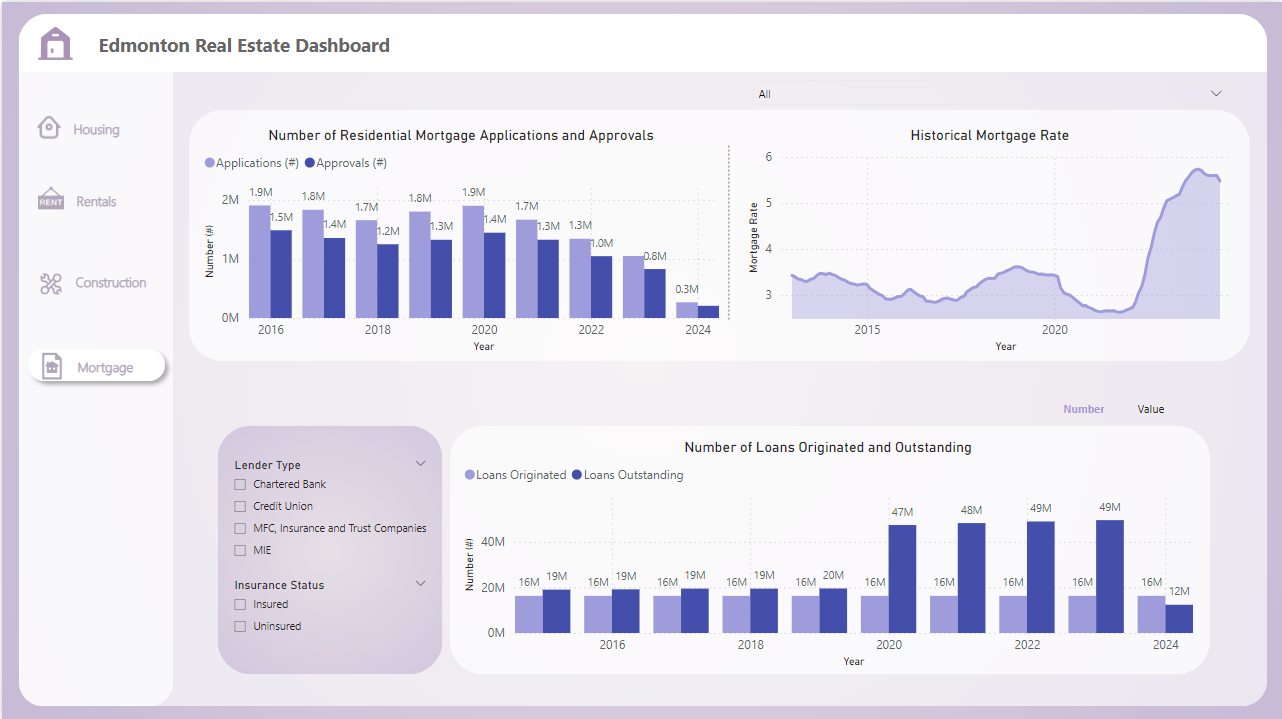

This screenshot's page, from the dashboard's own definition file:
{"tool":"powerbi","page":{"name":"Mortgage Overview","canvas":[1280,720],"ordinal":3},"visuals":[{"type":"shape","box":[16.7,338.3,155,49.2],"z":0},{"type":"image","box":[0,16.4,108.2,49.1],"z":1000},{"type":"image","box":[28.2,95.5,38.2,60],"z":2000},{"type":"image","box":[32.7,265.5,32.7,33.6],"z":3000},{"type":"image","box":[30.9,169.1,36.4,53.6],"z":4000},{"type":"image","box":[27.3,323.6,45.5,80],"z":5000},{"type":"textbox","box":[67.3,112.7,89.1,32.7],"z":6000},{"type":"textbox","box":[70,185.5,90,33.6],"z":7000},{"type":"textbox","box":[69.1,266.4,102.7,32.7],"z":8000},{"type":"textbox","box":[70.9,350.9,90,33.6],"z":9000},{"type":"actionButton","box":[27.3,105.5,129.1,40],"z":10000},{"type":"actionButton","box":[27.3,179.1,129.1,40],"z":11000},{"type":"actionButton","box":[27.3,259.1,129.1,40],"z":12000},{"type":"actionButton","box":[27.3,343.6,129.1,40],"z":13000},{"type":"textbox","box":[91.8,24.5,356.4,40.9],"z":14000},{"type":"clusteredColumnChart","title":"Number of Residential Mortgage Applications and Approvals","fields":{"Category":["residential-mortgage-approvals.Year"],"Y":["Sum(residential-mortgage-applications.Applications (#) )","Sum(residential-mortgage-approvals.Approvals (#) )"]},"box":[197,125,525,230],"z":15000},{"type":"slicer","title":"Lender Type Slicer","fields":{"Values":["LenderTypeTable.Lender Type"]},"box":[220,451,217,120],"z":16000},{"type":"slicer","title":"Insurance Status Slicer","fields":{"Values":["InsuranceStatusTable.Insurance Status"]},"box":[220,571,217,81],"z":18000},{"type":"clusteredColumnChart","title":"Number of Loans Originated and Outstanding","fields":{"Category":["number-of-loans-outstanding.Year"],"Y":["Sum(number-of-loans-originated.Number of Loans Originated (#) )","Sum(number-of-loans-outstanding.Number of Loans Outstanding (#) )"]},"box":[457,437,739,233],"z":19000},{"type":"areaChart","title":"Historical Mortgage Rate","fields":{"Category":["historical-mortgage-rate.date.Variation.Date Hierarchy.Year","historical-mortgage-rate.date.Variation.Date Hierarchy.Month","historical-mortgage-rate.date.Variation.Date Hierarchy.Day"],"Y":["Avg(historical-mortgage-rate.Value)"]},"box":[741,125,495,230],"z":20000},{"type":"slicer","title":"Mortgage Rate Slicer","fields":{"Values":["historical-mortgage-rate-index.description","historical-mortgage-rate-index.label"]},"box":[741,68,495,37],"z":21000},{"type":"advancedSlicerVisual","title":"Number/Value Slicer","fields":{"Values":["SwitchLandTitleTransfer.Land Title Transfer Option"]},"box":[1048,388,136,34],"z":24000},{"type":"actionButton","title":"Value Button","box":[1116,395,68,26],"z":24500},{"type":"actionButton","title":"Number Button","box":[1048,395,68,26],"z":25000}]}

Visuals, with their boxes on the page's 1280x720 design canvas (x1, y1, x2, y2). These are canvas units, not pixel positions in the 1282x719 screenshot, which may show the page scaled, cropped or inside an application window:
shape: (left=17, top=338, right=172, bottom=388)
image: (left=0, top=16, right=108, bottom=66)
image: (left=28, top=96, right=66, bottom=156)
image: (left=33, top=266, right=65, bottom=299)
image: (left=31, top=169, right=67, bottom=223)
image: (left=27, top=324, right=73, bottom=404)
textbox: (left=67, top=113, right=156, bottom=145)
textbox: (left=70, top=186, right=160, bottom=219)
textbox: (left=69, top=266, right=172, bottom=299)
textbox: (left=71, top=351, right=161, bottom=384)
actionButton: (left=27, top=106, right=156, bottom=146)
actionButton: (left=27, top=179, right=156, bottom=219)
actionButton: (left=27, top=259, right=156, bottom=299)
actionButton: (left=27, top=344, right=156, bottom=384)
textbox: (left=92, top=24, right=448, bottom=65)
"Number of Residential Mortgage Applications and Approvals" clusteredColumnChart: (left=197, top=125, right=722, bottom=355)
"Lender Type Slicer" slicer: (left=220, top=451, right=437, bottom=571)
"Insurance Status Slicer" slicer: (left=220, top=571, right=437, bottom=652)
"Number of Loans Originated and Outstanding" clusteredColumnChart: (left=457, top=437, right=1196, bottom=670)
"Historical Mortgage Rate" areaChart: (left=741, top=125, right=1236, bottom=355)
"Mortgage Rate Slicer" slicer: (left=741, top=68, right=1236, bottom=105)
"Number/Value Slicer" advancedSlicerVisual: (left=1048, top=388, right=1184, bottom=422)
"Value Button" actionButton: (left=1116, top=395, right=1184, bottom=421)
"Number Button" actionButton: (left=1048, top=395, right=1116, bottom=421)
